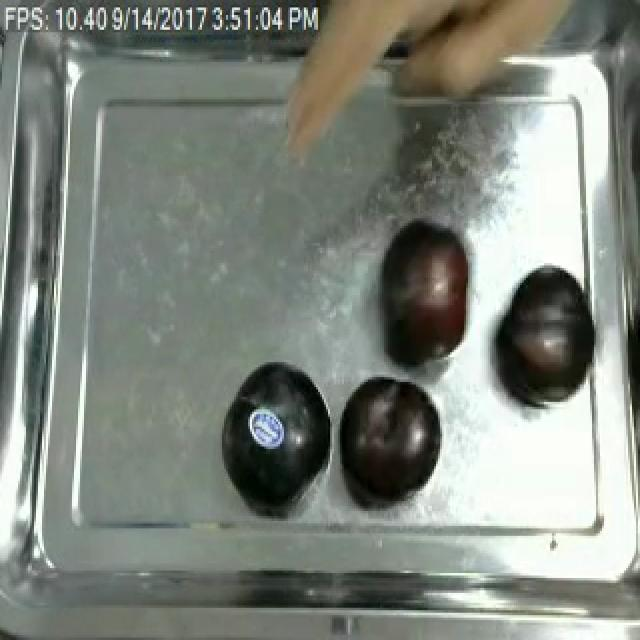Fruit: (212, 352, 336, 509), (372, 213, 476, 370), (490, 263, 600, 404), (334, 372, 444, 504)
